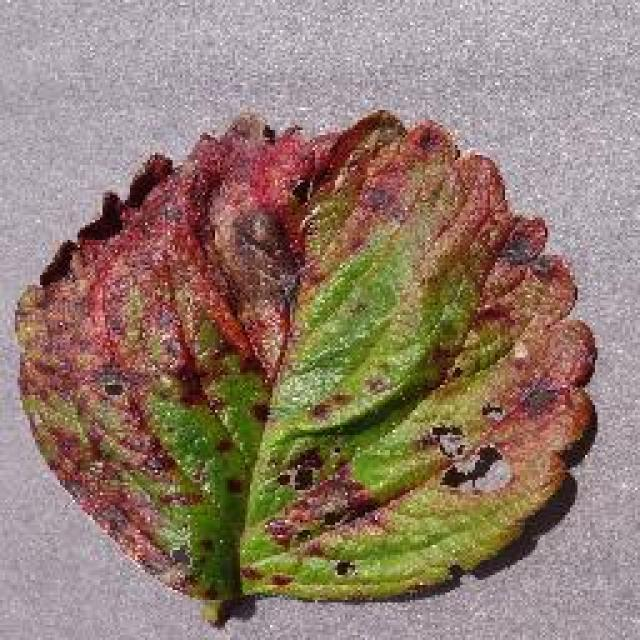Strawberry leaf scorch: (102, 197, 545, 515)
